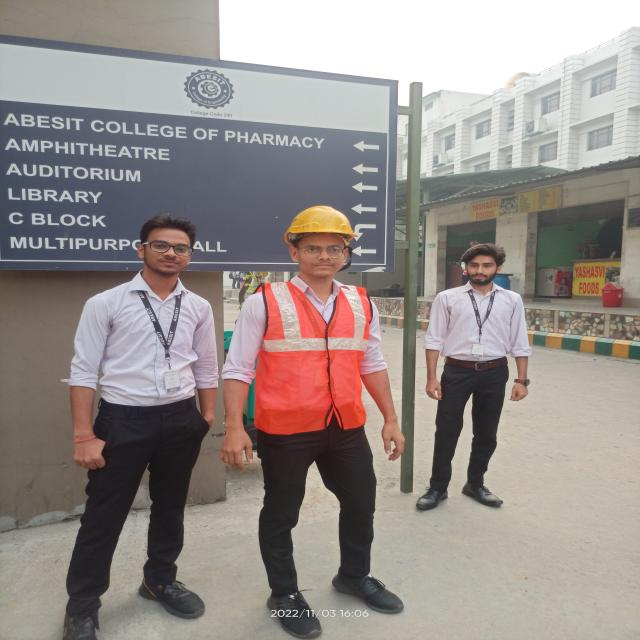safe: (223, 204, 410, 640)
unsafe: (63, 212, 222, 640), (423, 242, 531, 514)
